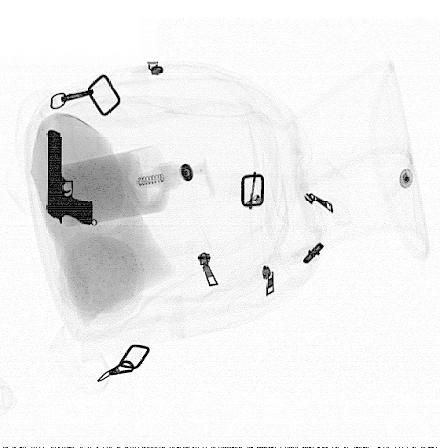Gun: (46, 128, 98, 227)
